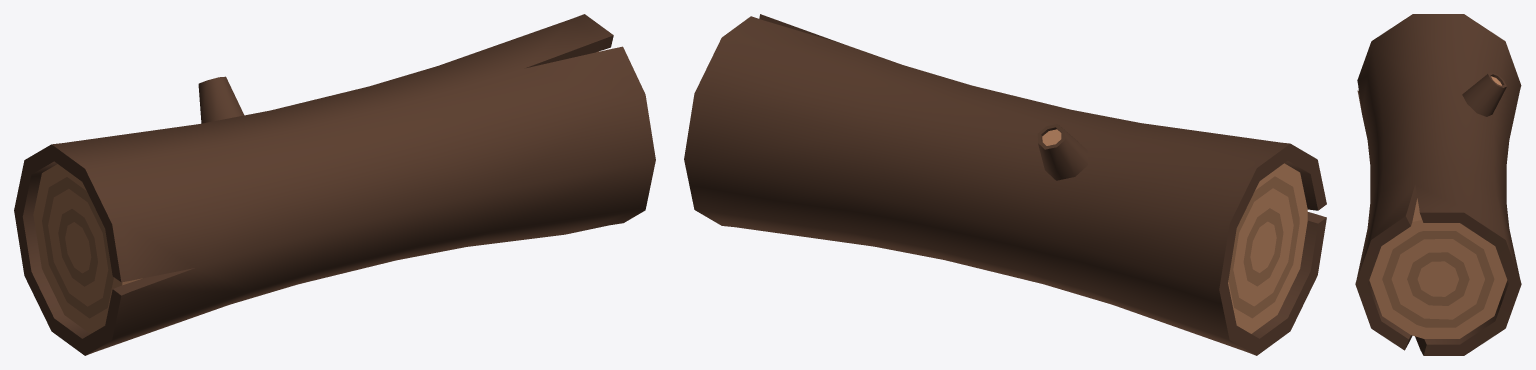
The model's file is Log.gltf.
The picture shows the model from 3 angles, left to right: view 1: azimuth 30°, elevation 25°; view 2: azimuth 150°, elevation 25°; view 3: azimuth 270°, elevation 25°; orthographic projection. The views are drawn at different scales.
Visible parts, largest first — view 1: Log; view 2: Log; view 3: Log.
Boxes of the visible parts, x1=… form: Log: x1=14, y1=14, x2=655, y2=355; Log: x1=684, y1=14, x2=1326, y2=355; Log: x1=1355, y1=14, x2=1521, y2=355.
Bounding box in the file's own units: 1.49 × 0.5315 × 0.5282.
